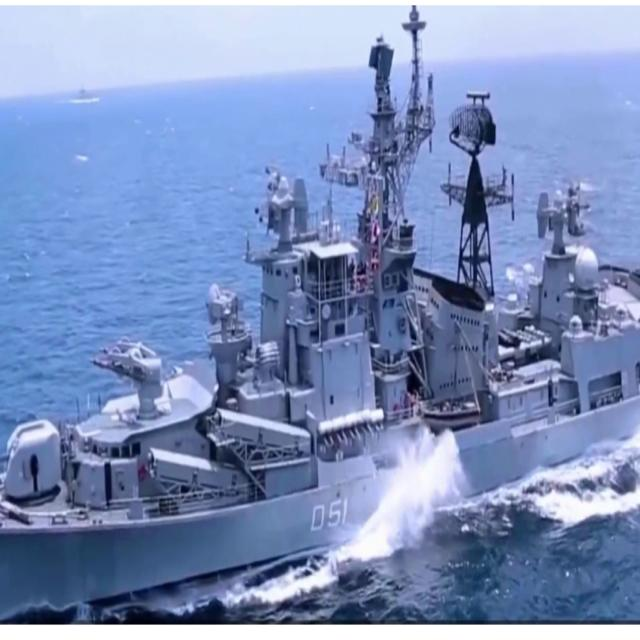OCR: (303, 490, 354, 541)
